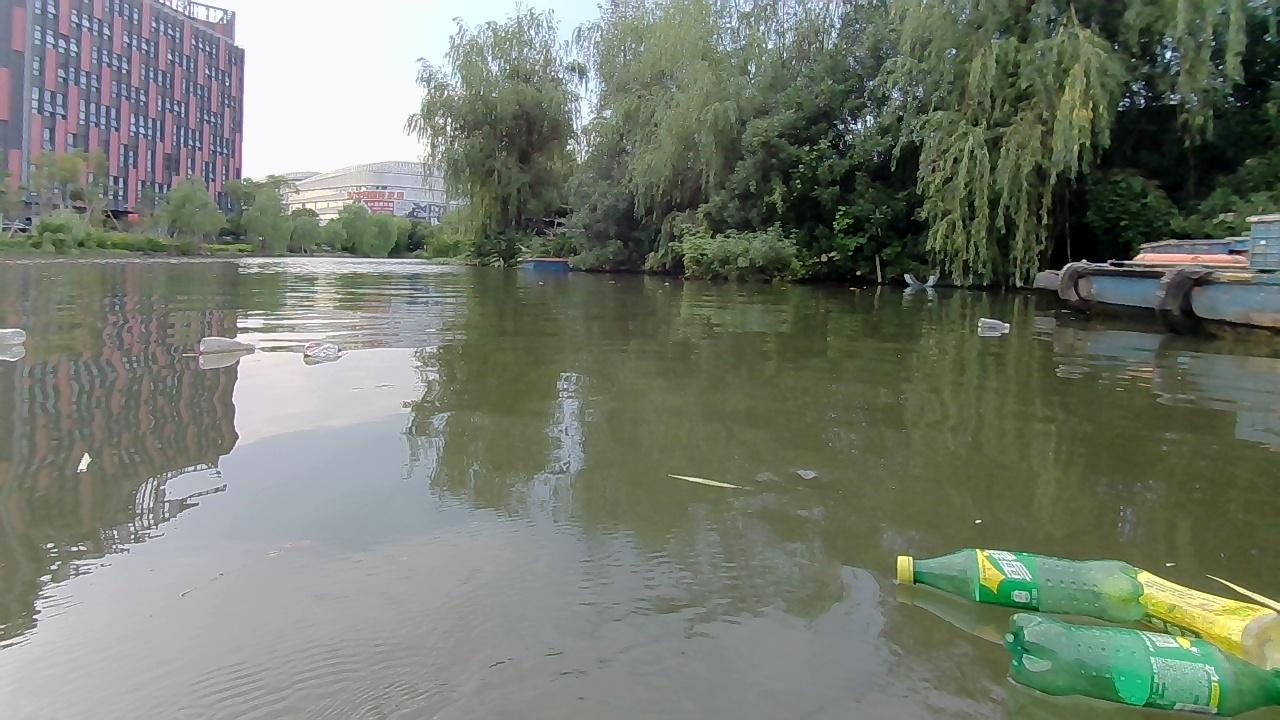bottle: (1007, 616, 1279, 716), (896, 539, 1148, 626), (1121, 565, 1279, 670), (193, 336, 258, 358), (301, 337, 344, 362), (974, 312, 1012, 336), (0, 324, 28, 346)
